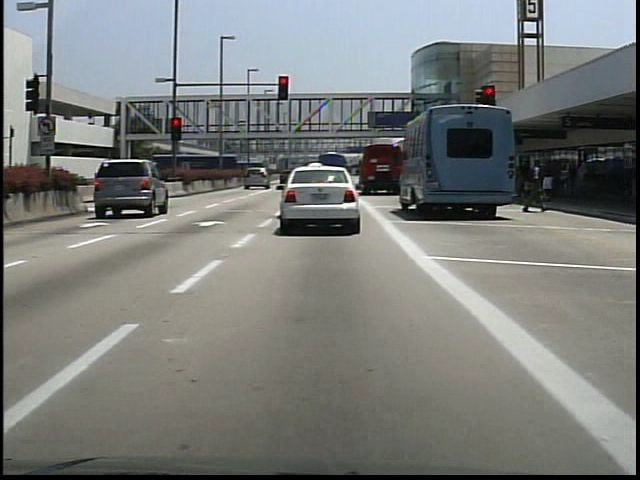person: (524, 152, 545, 213), (539, 157, 556, 204)
